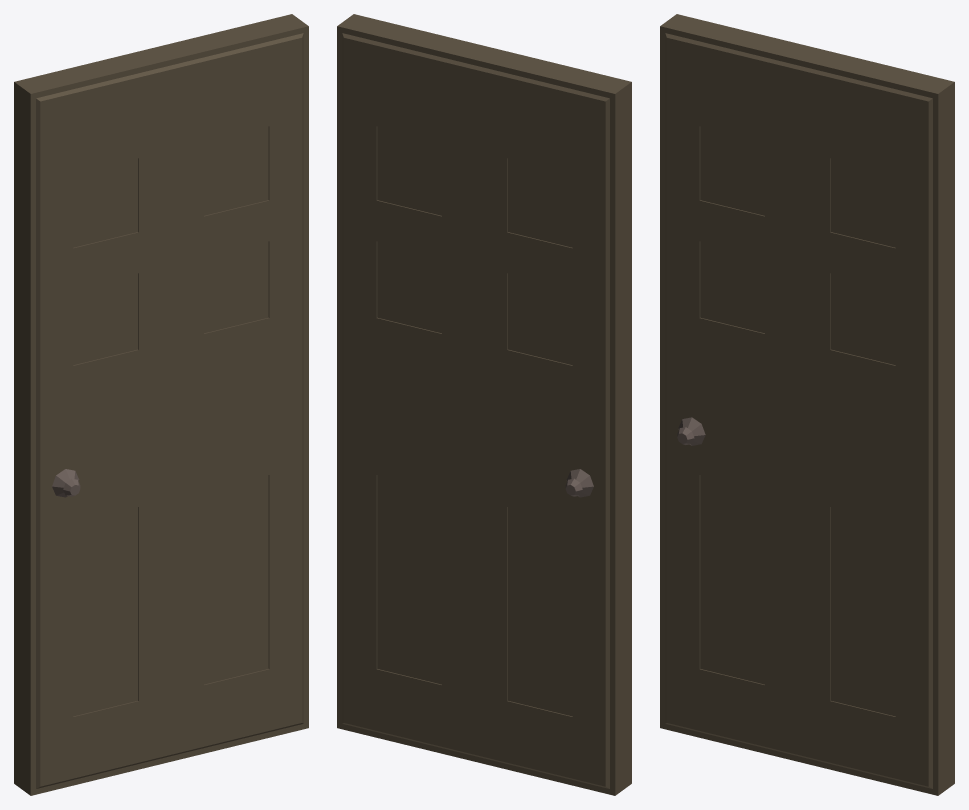
Rendered from door_2.glb.
3 views of the same model, side by side, from view 1: azimuth 30°, elevation 25°; view 2: azimuth 150°, elevation 25°; view 3: azimuth 330°, elevation 25° (orthographic).
Visible parts, largest first — view 1: Door_2; view 2: Door_2; view 3: Door_2.
Part boxes in pixels (x1,y1,x2,y2): Door_2: (14, 14, 308, 795); Door_2: (337, 14, 631, 795); Door_2: (660, 14, 954, 795).
Bounding box in the file's own units: 1.74 × 4.2 × 0.4211.
